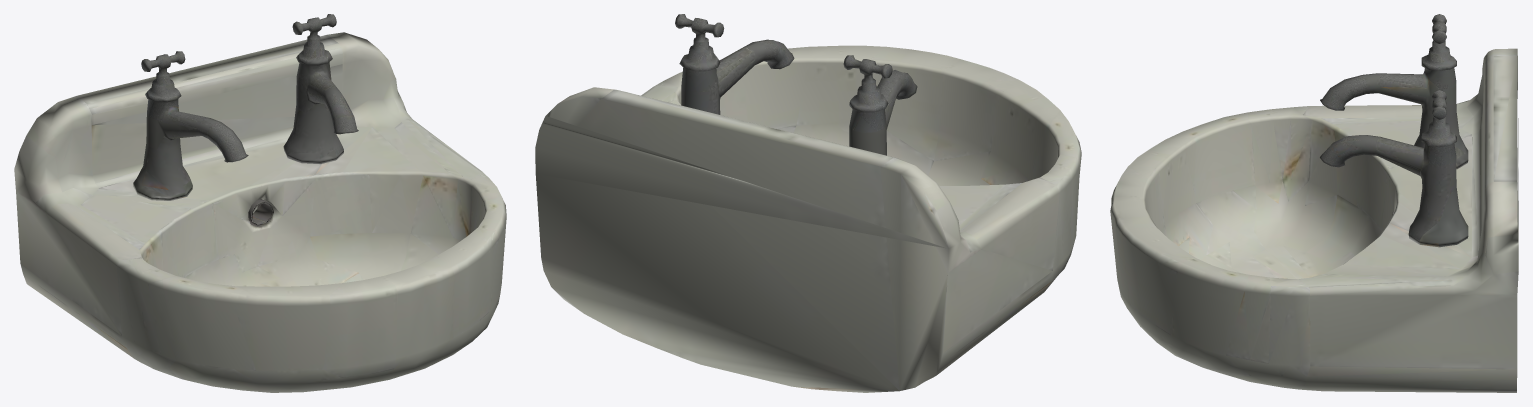
File: cell_sink.glb
3 views of the same model, side by side, from view 1: azimuth 30°, elevation 25°; view 2: azimuth 150°, elevation 25°; view 3: azimuth 270°, elevation 25° (orthographic). The views are drawn at different scales.
Size of the model in its own units: 0.48 by 0.3525 by 0.4444.
1 material, 1 textured.
